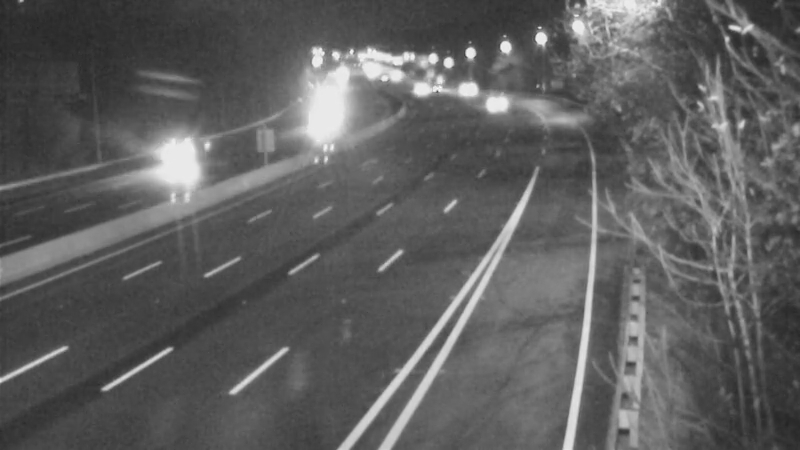vehicle: (146, 115, 226, 195), (388, 63, 438, 113), (408, 65, 458, 115), (439, 65, 489, 115), (472, 77, 522, 127)
